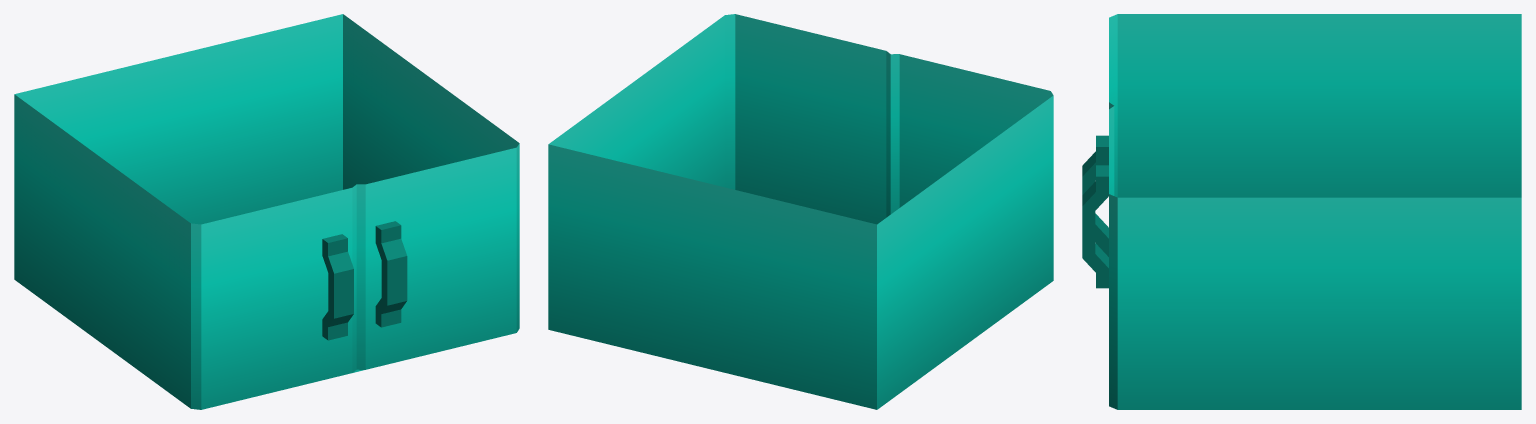
The model's file is Counter_01_v05_C05.fbx.
3 views of the same model, side by side, from view 1: azimuth 30°, elevation 25°; view 2: azimuth 150°, elevation 25°; view 3: azimuth 270°, elevation 25° (orthographic). The views are drawn at different scales.
Parts seen in each view (by area): view 1: Counter_01_v05_C05; view 2: Counter_01_v05_C05; view 3: Counter_01_v05_C05.
Part boxes in pixels (left/top/right/bottom): Counter_01_v05_C05: left=14, top=14, right=519, bottom=409; Counter_01_v05_C05: left=548, top=14, right=1053, bottom=409; Counter_01_v05_C05: left=1082, top=14, right=1521, bottom=409.
Bounding box in the file's own units: 100 × 53.91 × 101.
